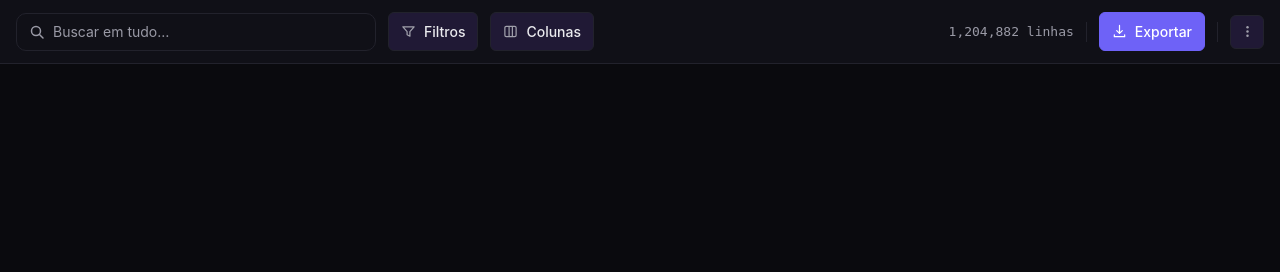
Test: ViewerToolbar › menu "Mais ações" (Salvar nova versão, Salvar, Comparar, Desfazer, Refazer) › RF-09: "Desfazer"/"Refazer" aparecem sempre no menu, mesmo desabilitados, para indicar o atalho
The image size is (1280, 272).
Click the button named "Mais ações" at x=1247, y=32, box [1230,14,1264,48]
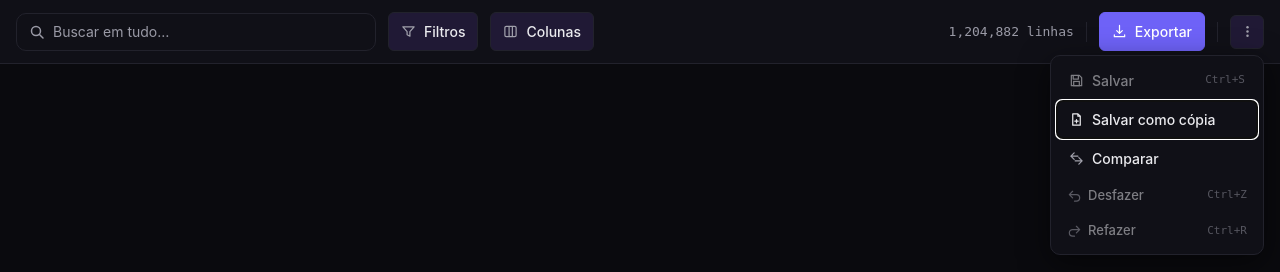
expect the button "Desfazer Ctrl+Z" is disabled: met, box [1057,178,1257,212]
expect the button "Refazer Ctrl+R" is disabled: met, box [1057,214,1257,248]
